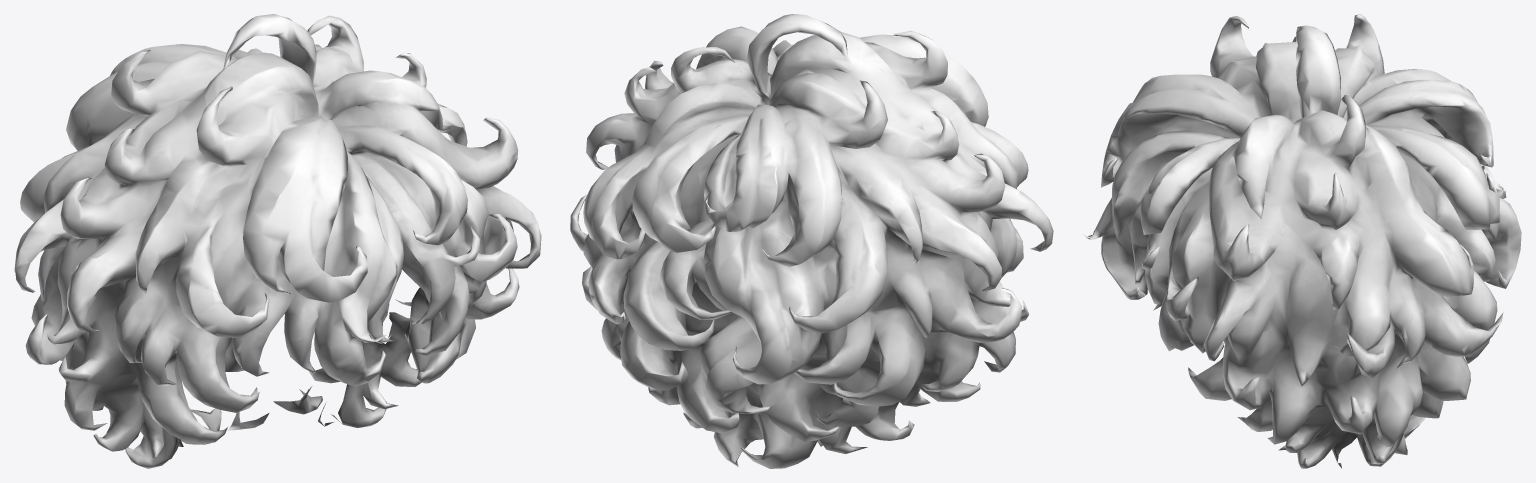
The model's file is hair-curly.glb.
3 renders of one model, left to right at view 1: azimuth 30°, elevation 25°; view 2: azimuth 150°, elevation 25°; view 3: azimuth 270°, elevation 25°, orthographic. The views are drawn at different scales.
Parts seen in each view (by area): view 1: tripo_node_a892f34f-ad15-45c3-95af-554165c2aaea; view 2: tripo_node_a892f34f-ad15-45c3-95af-554165c2aaea; view 3: tripo_node_a892f34f-ad15-45c3-95af-554165c2aaea.
Boxes of the visible parts, box(x1,y1,x2,y2) form: tripo_node_a892f34f-ad15-45c3-95af-554165c2aaea: box(14, 14, 541, 468); tripo_node_a892f34f-ad15-45c3-95af-554165c2aaea: box(570, 14, 1053, 468); tripo_node_a892f34f-ad15-45c3-95af-554165c2aaea: box(1083, 14, 1521, 468).
Bounding box in the file's own units: 0.295 × 0.2791 × 0.2666.
1 material, 1 textured.
